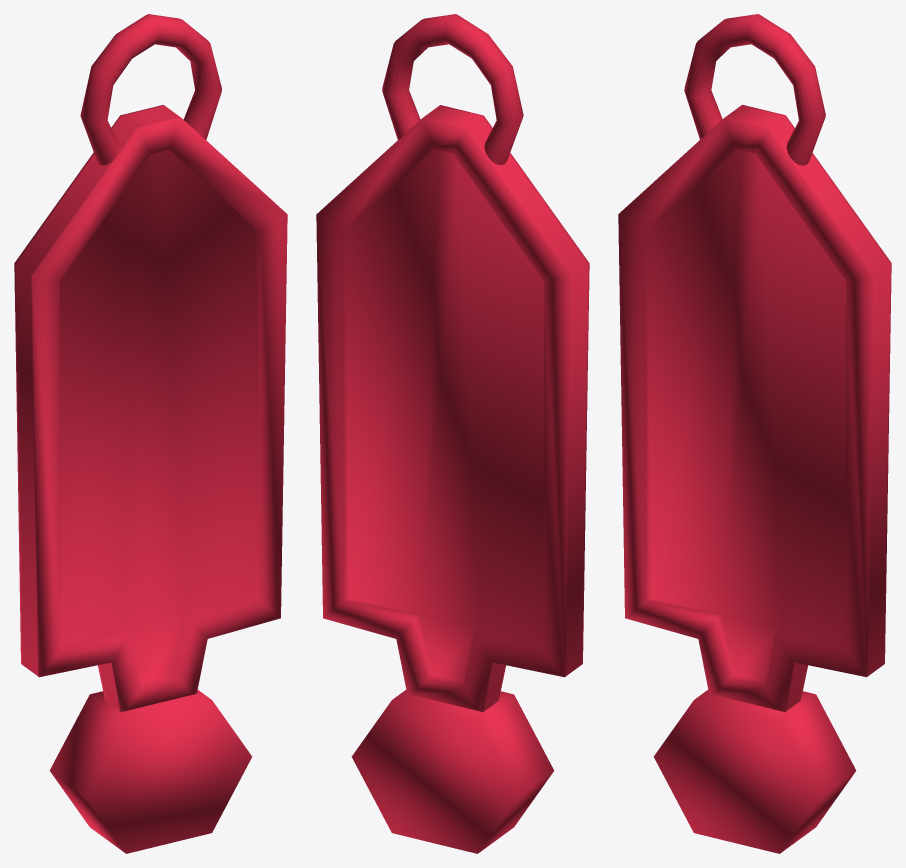
Rendered from M_Medaillon_Hexagone.fbx.
3 renders of one model, left to right at view 1: azimuth 30°, elevation 25°; view 2: azimuth 150°, elevation 25°; view 3: azimuth 330°, elevation 25°, orthographic.
Parts seen in each view (by area): view 1: Medaillon3_Hexagone; view 2: Medaillon3_Hexagone; view 3: Medaillon3_Hexagone.
Boxes of the visible parts, left/top/right/bottom form: Medaillon3_Hexagone: left=14, top=14, right=287, bottom=853; Medaillon3_Hexagone: left=316, top=14, right=589, bottom=853; Medaillon3_Hexagone: left=618, top=14, right=891, bottom=853.
Size of the model in its own units: 6.84 by 20.87 by 1.69.
